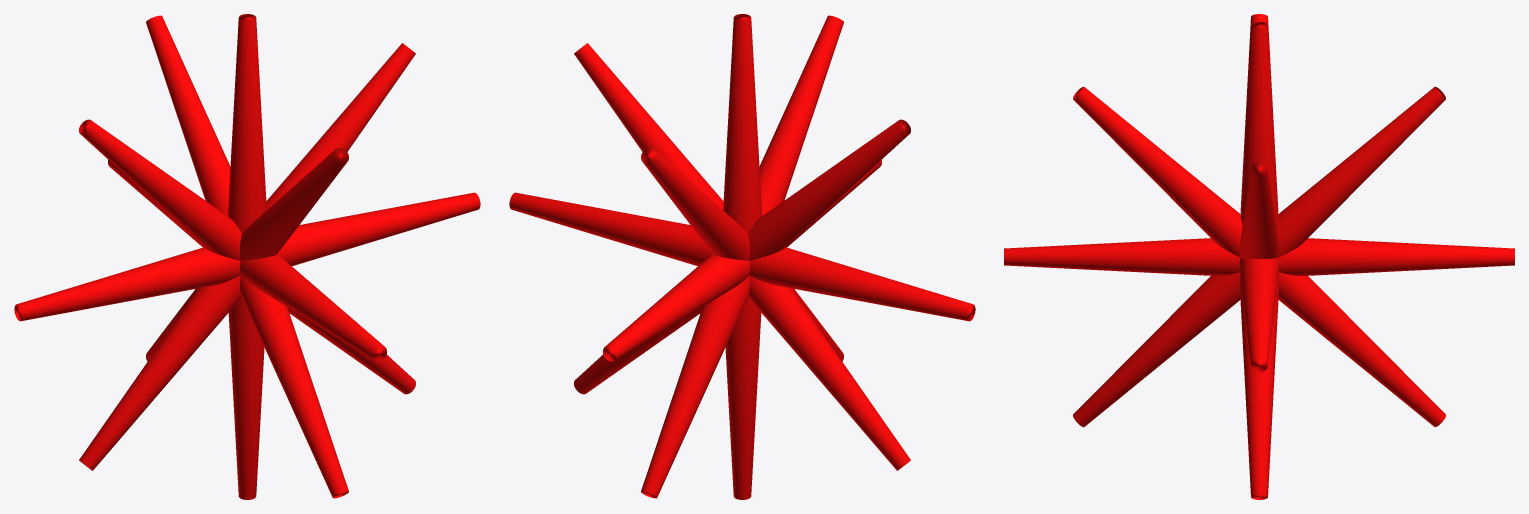
File: PathMarker.glb
3 views of the same model, side by side, from view 1: azimuth 30°, elevation 25°; view 2: azimuth 150°, elevation 25°; view 3: azimuth 270°, elevation 25° (orthographic). The views are drawn at different scales.
Visible parts, largest first — view 1: Cylinder.003, Cylinder.005, Cylinder.002, Cylinder.007, Cylinder.006, Cylinder.001, Cylinder.004; view 2: Cylinder.003, Cylinder.004, Cylinder.002, Cylinder.007, Cylinder.006, Cylinder.001, Cylinder.005; view 3: Cylinder.001, Cylinder.004, Cylinder.005, Cylinder.006, Cylinder.002, Cylinder.003, Cylinder.007.
Boxes of the visible parts, x1,y1,x2,y2 form: Cylinder.003: (14,192,480,321); Cylinder.005: (146,15,348,498); Cylinder.002: (227,14,266,499); Cylinder.007: (79,43,415,470); Cylinder.006: (79,119,415,394); Cylinder.001: (108,160,386,361); Cylinder.004: (146,148,348,361); Cylinder.003: (509,192,975,321); Cylinder.004: (641,15,843,498); Cylinder.002: (723,14,762,499); Cylinder.007: (574,43,910,470); Cylinder.006: (574,119,910,394); Cylinder.001: (603,160,881,361); Cylinder.005: (641,148,843,361); Cylinder.001: (1004,238,1514,275); Cylinder.004: (1073,86,1445,427); Cylinder.005: (1073,86,1445,427); Cylinder.006: (1239,14,1279,499); Cylinder.002: (1240,22,1278,223); Cylinder.003: (1239,258,1279,372); Cylinder.007: (1239,161,1279,258).
Size of the model in its own units: 0.6 by 0.6 by 0.6.
